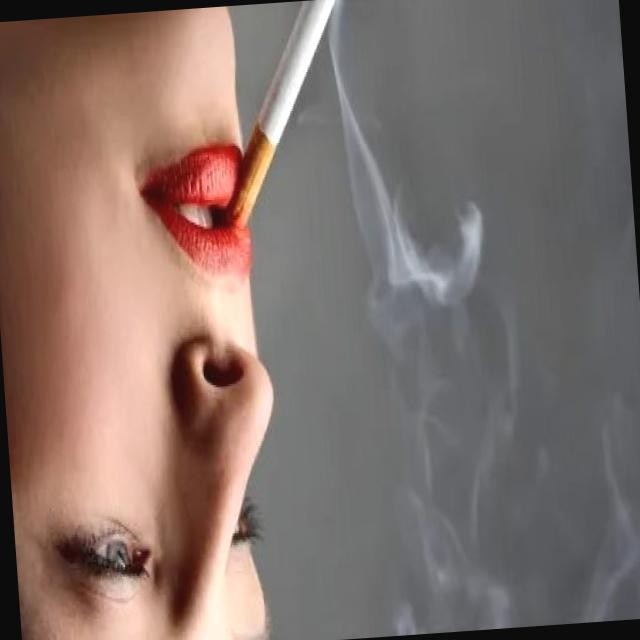smoke: (209, 0, 356, 239)
